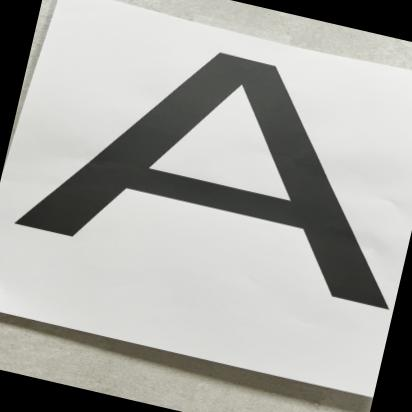seat: (15, 0, 412, 347)
